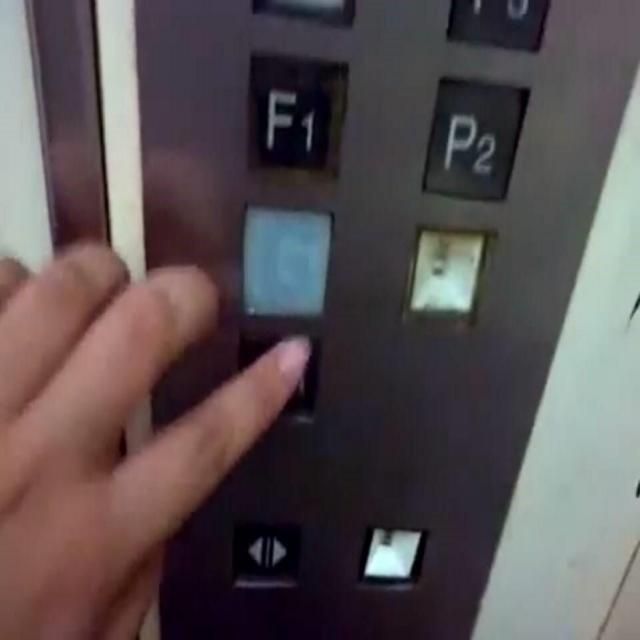F1: (244, 46, 351, 183)
P2: (421, 72, 533, 204)
blur: (239, 201, 334, 319), (401, 220, 492, 332), (354, 519, 428, 592)
open: (227, 512, 304, 589)
